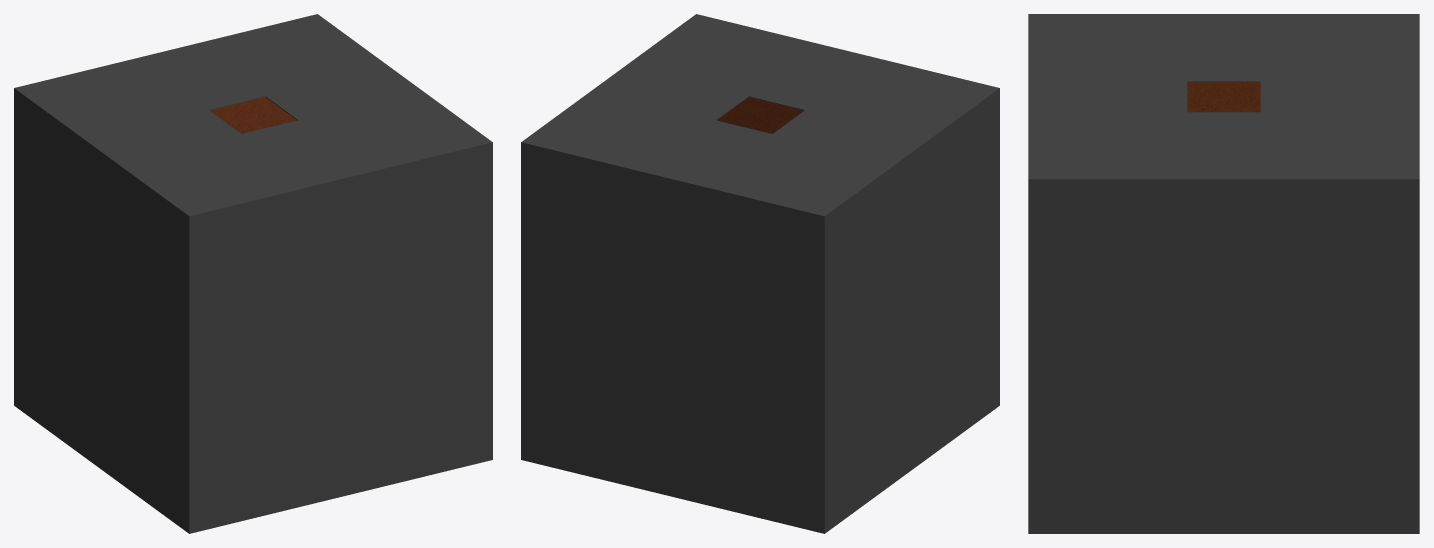
The model's file is demo.glb.
3 views of the same model, side by side, from view 1: azimuth 30°, elevation 25°; view 2: azimuth 150°, elevation 25°; view 3: azimuth 270°, elevation 25° (orthographic). The views are drawn at different scales.
Parts seen in each view (by area): view 1: outer_shell, inner_shell; view 2: outer_shell, inner_shell; view 3: outer_shell, inner_shell.
Part boxes in pixels (left/top/right/bottom): outer_shell: left=14, top=14, right=492, bottom=533; inner_shell: left=210, top=97, right=296, bottom=133; outer_shell: left=521, top=14, right=999, bottom=533; inner_shell: left=717, top=97, right=803, bottom=133; outer_shell: left=1028, top=14, right=1419, bottom=533; inner_shell: left=1187, top=82, right=1260, bottom=112.
Bounding box in the file's own units: 7500 × 7500 × 7500.
4 materials, 1 textured.
